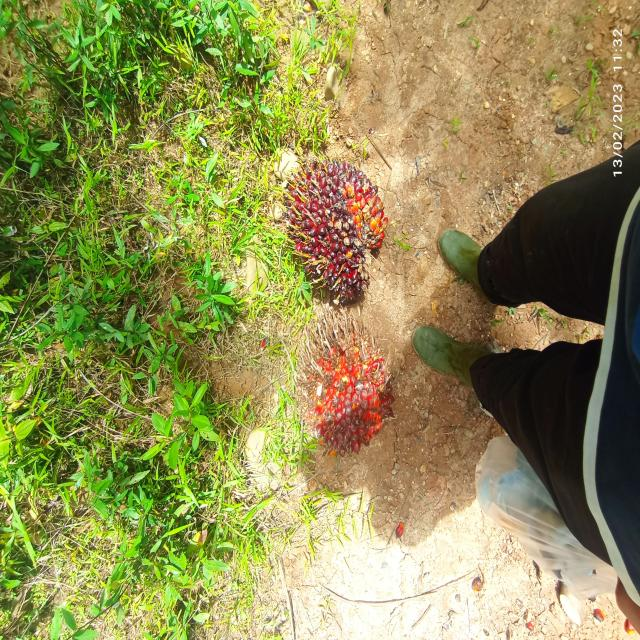fraksi 1: (275, 136, 399, 322)
fraksi 4: (286, 310, 421, 480)
